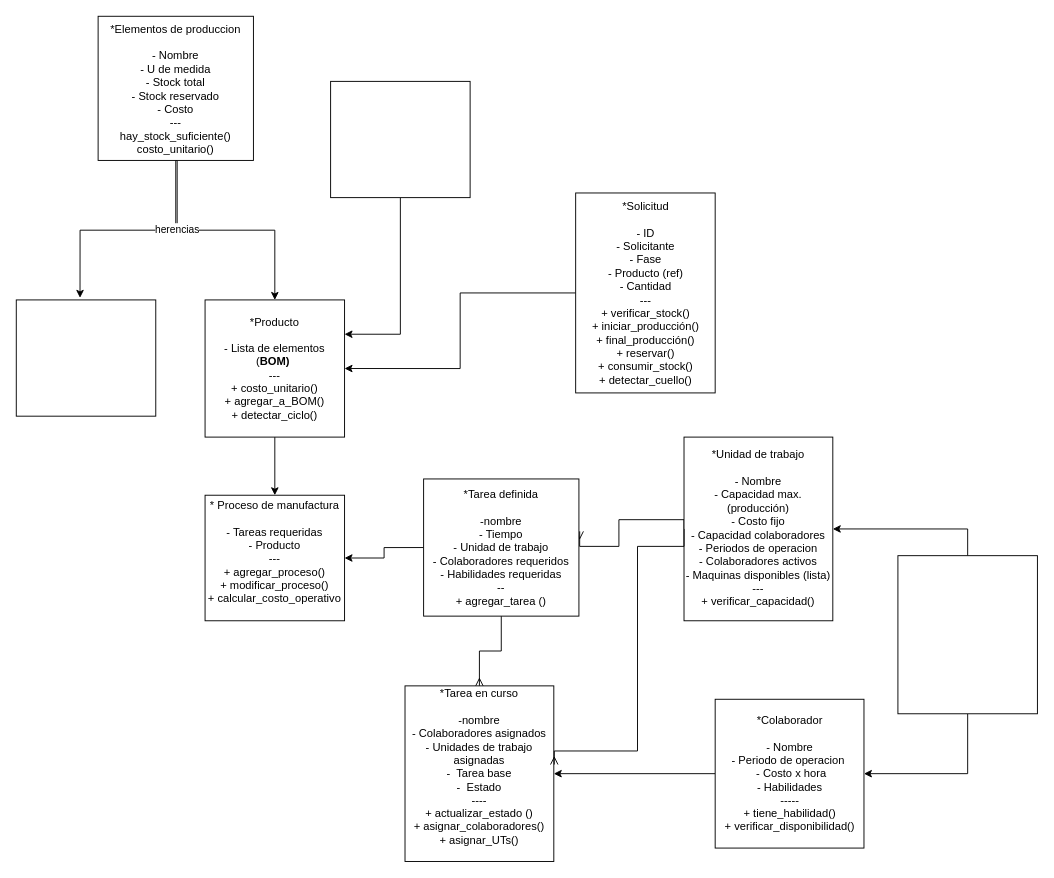
The diagram is 1054 pixels wide and 878 high, and some of its shapes have lost their labels. Each missing label, with the centre of its shape:
"*Componente de BOM - elemento produccion -cantidad --- + validar_cantidad()" belongs at point 400,139.
"*Insumo --- + costo_unitario() + actualizar_costo()" belongs at point 85,357.
"Periodo de Operación - inicio - fin --- duracion_horas() se_solapa_con()" belongs at point 967,634.
